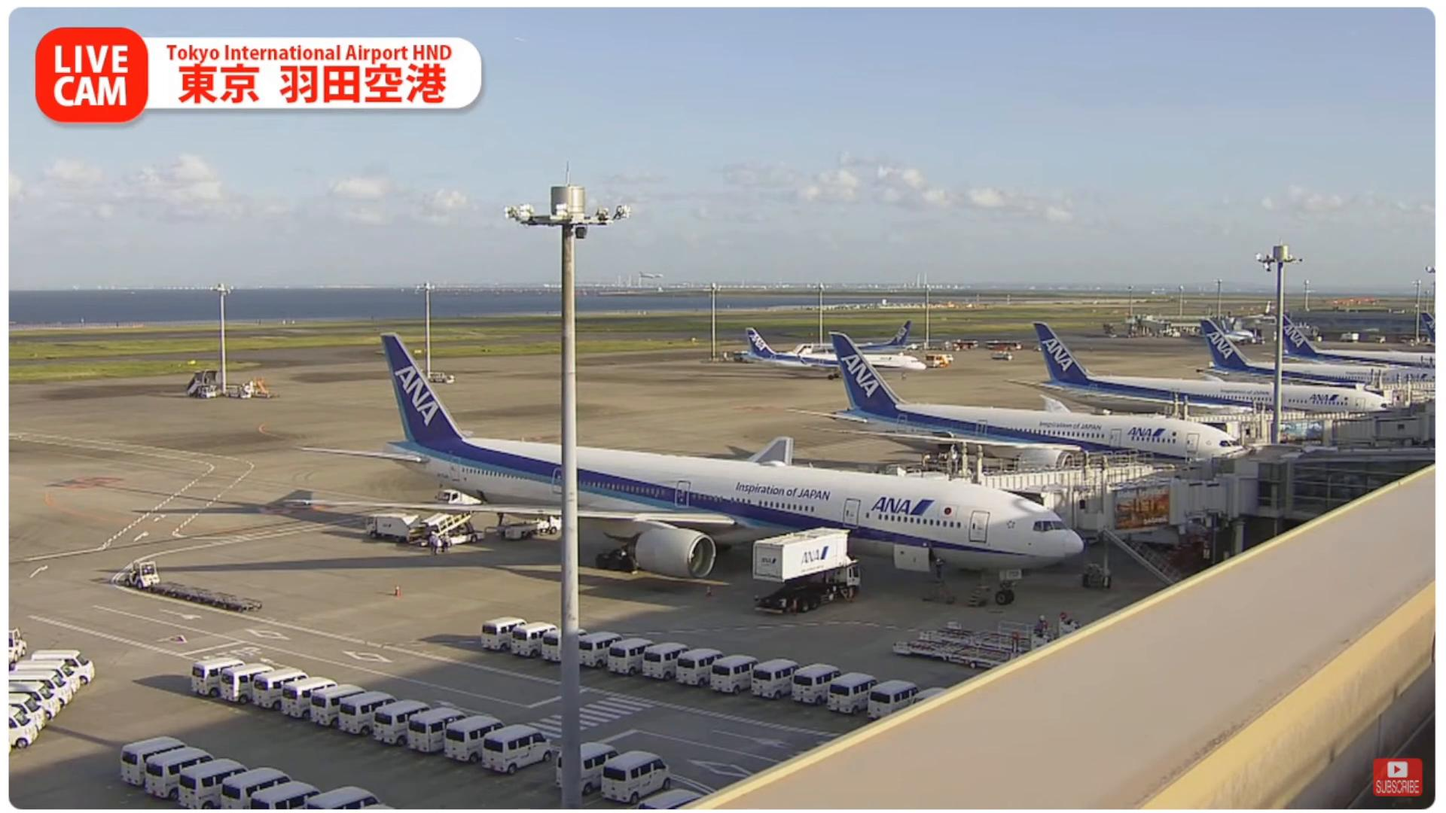Aerobridge: (990, 474, 1217, 521), (903, 458, 1204, 486)
Airplane: (295, 332, 1081, 581)
Baggage truck: (363, 511, 426, 541)
Catering: (753, 525, 866, 615)
Dolly: (144, 582, 263, 612)
Skyloader: (420, 510, 487, 544)
Tractor: (123, 563, 161, 587)
Window: (1253, 443, 1435, 520)
